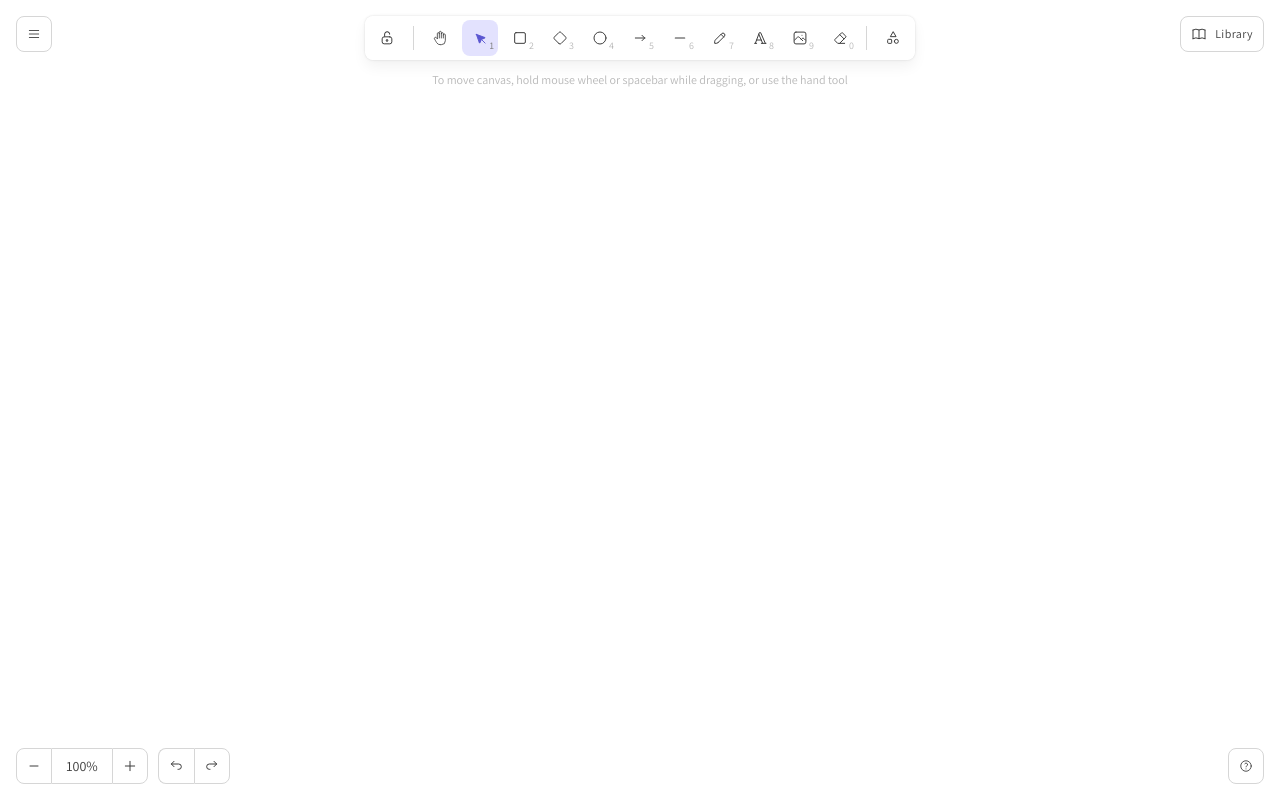
Test: <Excalidraw/> › <MainMenu/> › should update themeToggle text even if MainMenu memoized
The image size is (1280, 800).
Click the 1st button with class "dropdown-menu-button" at coordinates (34, 34), box [16,16,52,52]
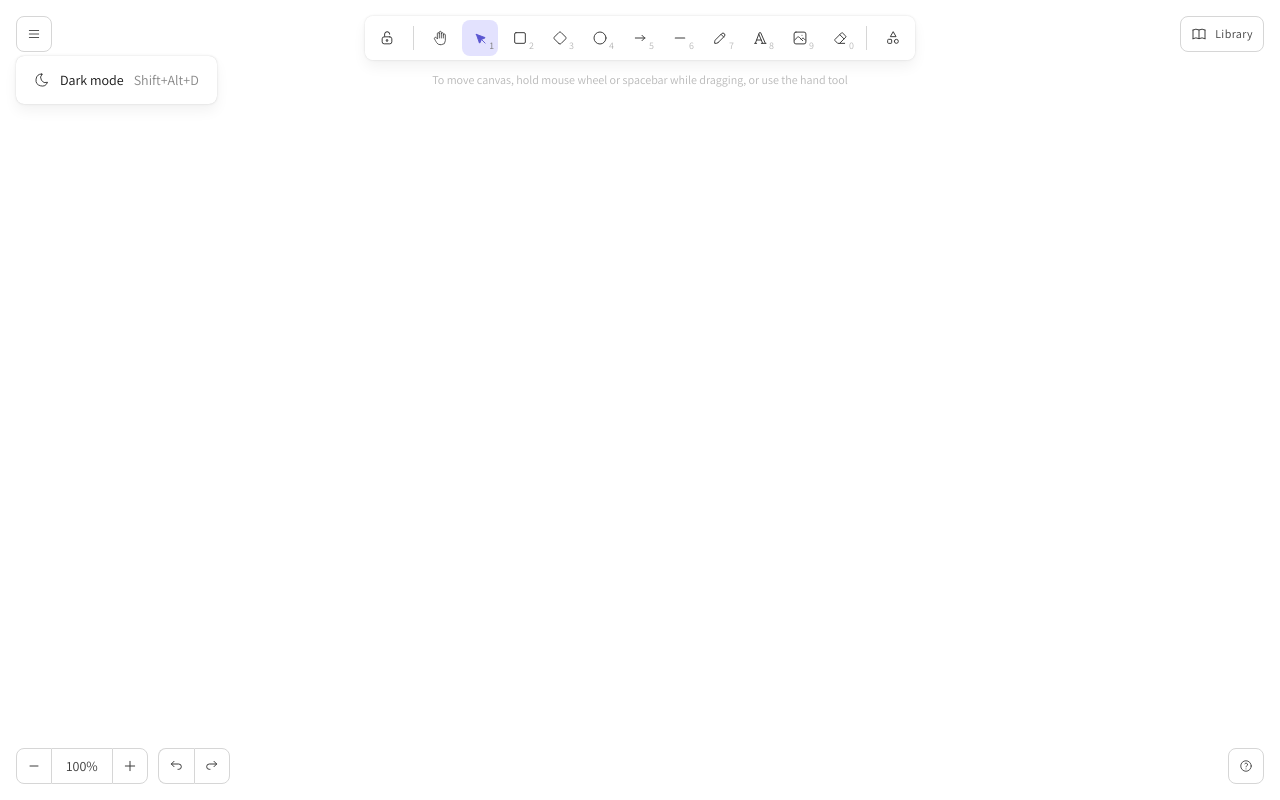
Check: the button with test id "toggle-dark-mode" shows "Dark mode"
Click the button with test id "toggle-dark-mode" at coordinates (116, 80), box [24,64,209,96]
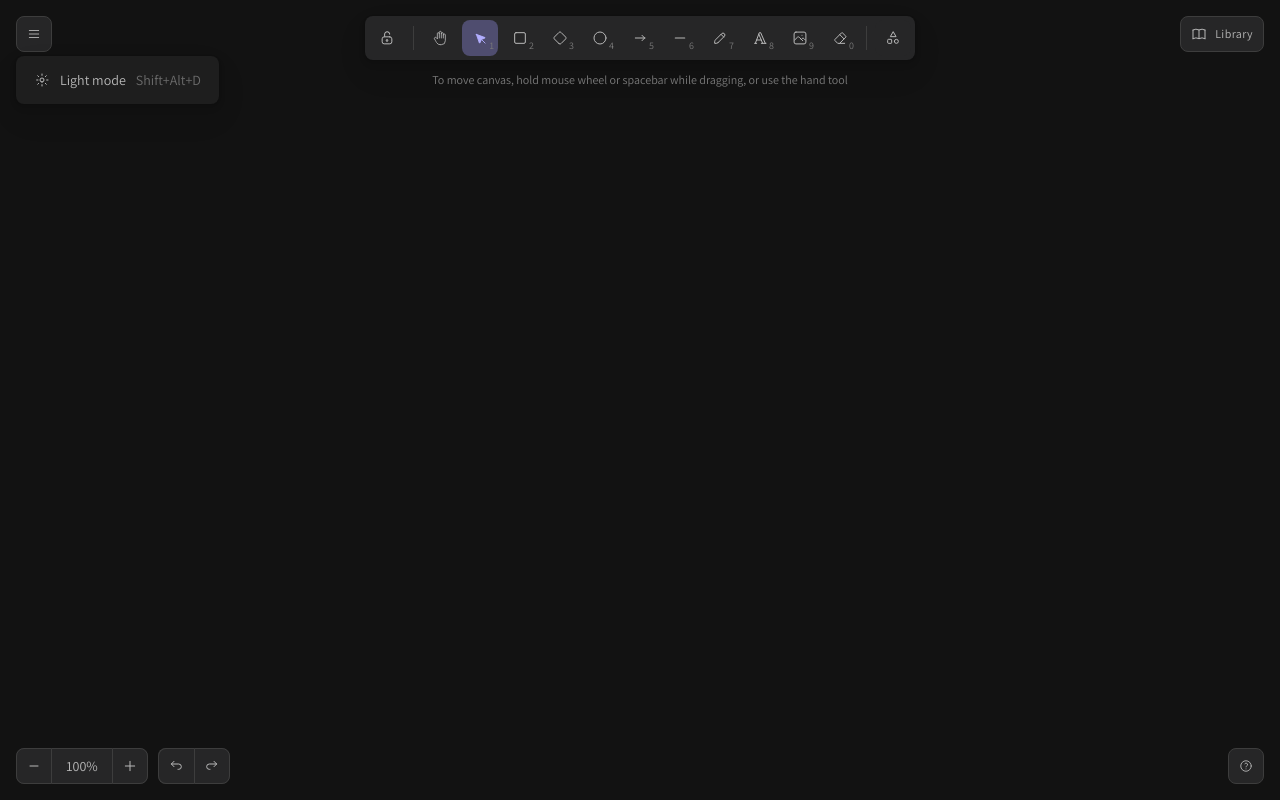
Check: the button with test id "toggle-dark-mode" shows "Light mode", box [24,64,211,96]
